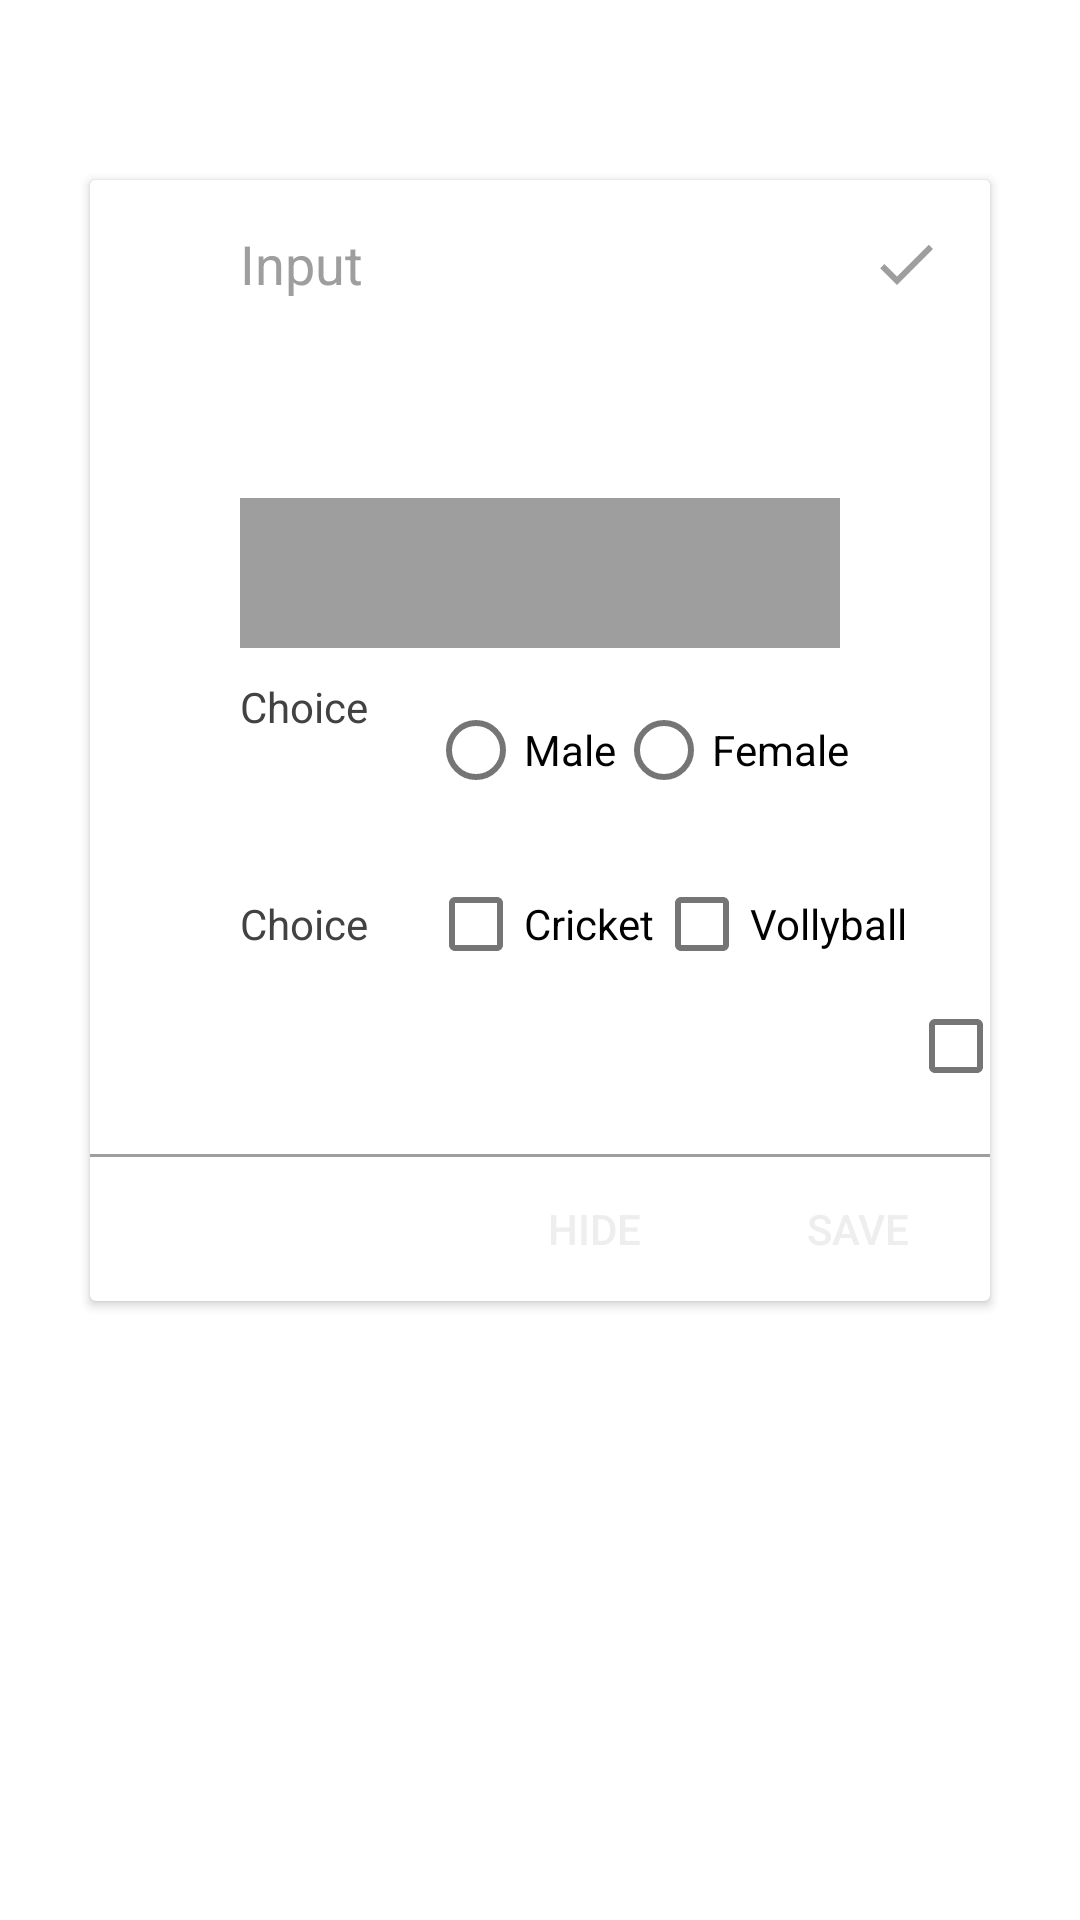

Screen size 1080 × 1920. Icon name, then its box in pixels as (x1, y1, x2, y2):
done: (880, 245, 933, 285)
